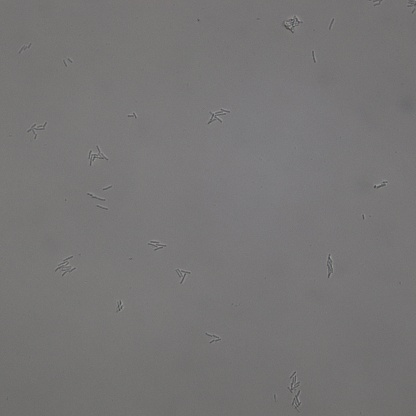R(colony): (55, 256, 77, 279), (88, 145, 108, 166), (281, 16, 302, 35), (208, 106, 230, 124), (27, 121, 47, 139), (288, 370, 302, 392), (291, 390, 304, 413), (326, 252, 336, 277), (176, 269, 190, 284), (148, 239, 165, 251), (17, 43, 30, 55), (206, 333, 221, 343), (373, 182, 387, 190), (63, 58, 74, 67), (116, 300, 123, 311), (127, 113, 137, 120)
